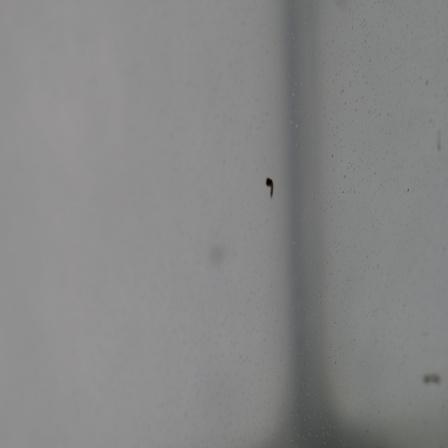Jentik-Nyamuk: (261, 174, 278, 203)
